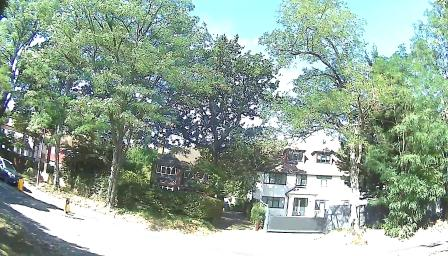Cars: (1, 153, 22, 187)
